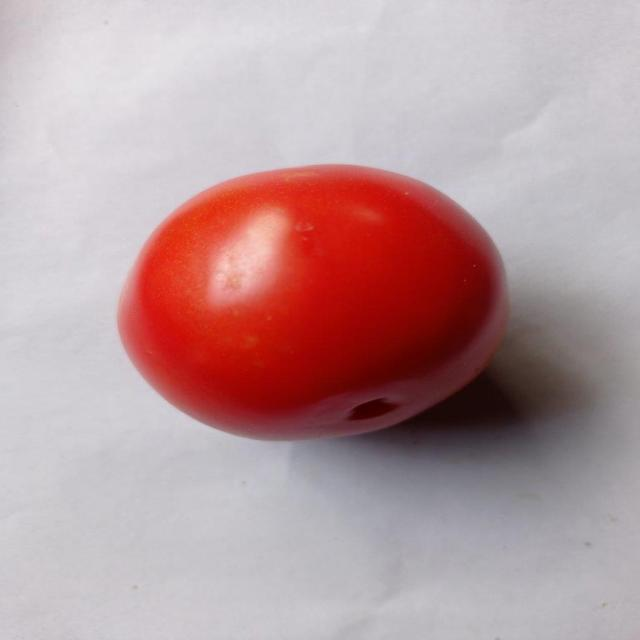Tomato: (114, 156, 519, 448)
